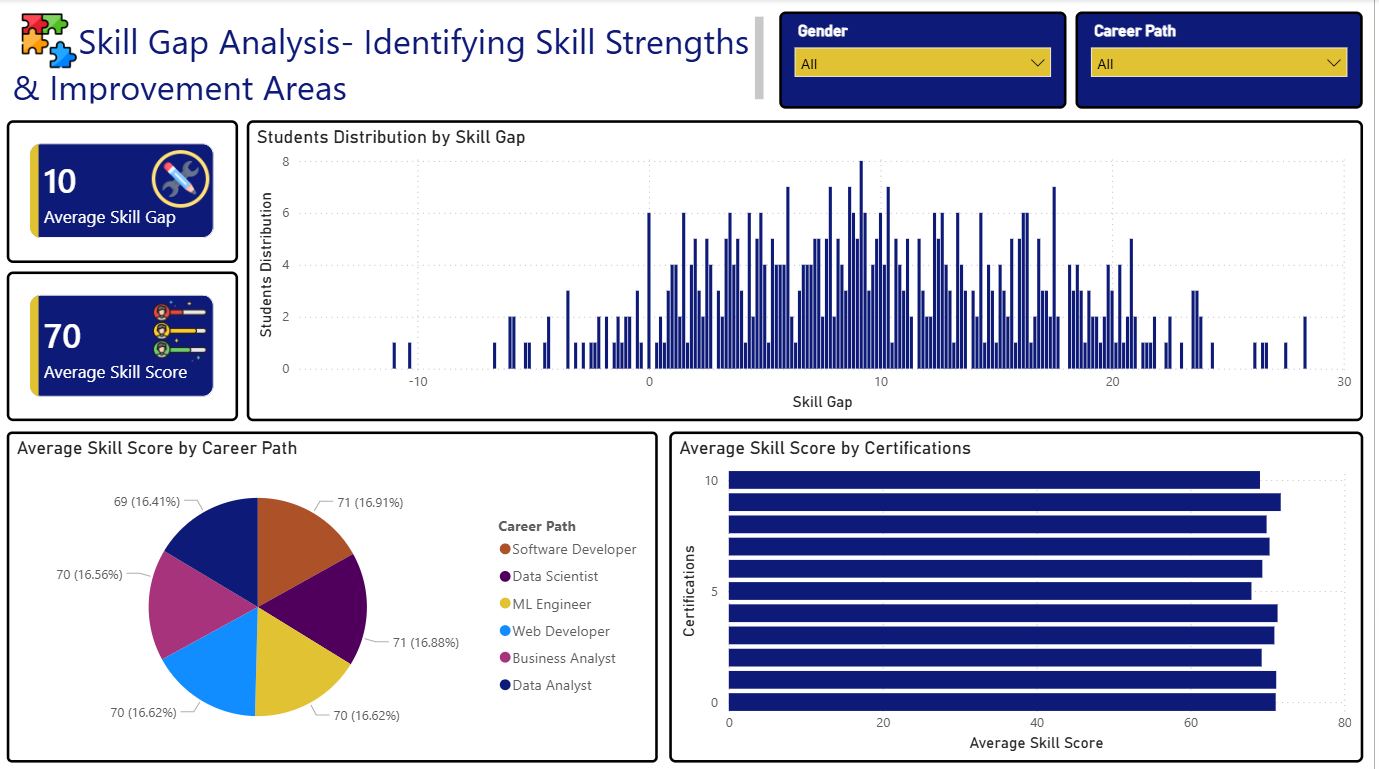

What the dashboard file says about the page in this screenshot:
{"tool":"powerbi","page":{"name":"Page 2","canvas":[1280,720],"ordinal":1},"visuals":[{"type":"clusteredColumnChart","fields":{"Category":["student_career_analytics.Skill_Gap"],"Y":["CountNonNull(student_career_analytics.Student_ID)"]},"box":[231.4,112.8,1038.4,280.2],"z":0},{"type":"pieChart","fields":{"Category":["student_career_analytics.Career_Path"],"Y":["Avg(student_career_analytics.Average_Skill)"]},"box":[8.1,402.3,605.8,308.1],"z":1000},{"type":"clusteredBarChart","fields":{"Category":["student_career_analytics.Certifications"],"Y":["Avg(student_career_analytics.Average_Skill)"]},"box":[624.4,402.3,645.4,308.1],"z":2000},{"type":"cardVisual","fields":{"Data":["Avg(student_career_analytics.Skill_Gap)"]},"box":[8.1,112.8,215.1,132.6],"z":3000},{"type":"cardVisual","fields":{"Data":["Avg(student_career_analytics.Average_Skill)"]},"box":[8.1,253.5,215.1,139.5],"z":4000},{"type":"slicer","fields":{"Values":["student_career_analytics.Career_Path"]},"box":[1002.3,11.6,267.4,90.7],"z":5000},{"type":"slicer","fields":{"Values":["student_career_analytics.Gender"]},"box":[726.7,11.6,267.4,90.7],"z":6000},{"type":"textbox","box":[8.1,11.6,709.3,90.7],"z":7000},{"type":"image","box":[140.7,280.2,57,57],"z":7501},{"type":"image","box":[143,132.6,53.5,69.8],"z":8002},{"type":"image","box":[22.1,11.6,51.2,54.7],"z":8503}]}

Visuals, with their boxes in screenshot pixels (x1, y1, x2, y2), scaled from the page's 1280x720 canvas onto the 1379x769 screenshot:
clusteredColumnChart - student_career_analytics.Skill_Gap x CountNonNull(student_career_analytics.Student_ID): 249,120,1368,420
pieChart - student_career_analytics.Career_Path x Avg(student_career_analytics.Average_Skill): 9,430,661,759
clusteredBarChart - student_career_analytics.Certifications x Avg(student_career_analytics.Average_Skill): 673,430,1368,759
cardVisual - Avg(student_career_analytics.Skill_Gap): 9,120,240,262
cardVisual - Avg(student_career_analytics.Average_Skill): 9,271,240,420
slicer - student_career_analytics.Career_Path: 1080,12,1368,109
slicer - student_career_analytics.Gender: 783,12,1071,109
textbox: 9,12,773,109
image: 152,299,213,360
image: 154,142,212,216
image: 24,12,79,71
